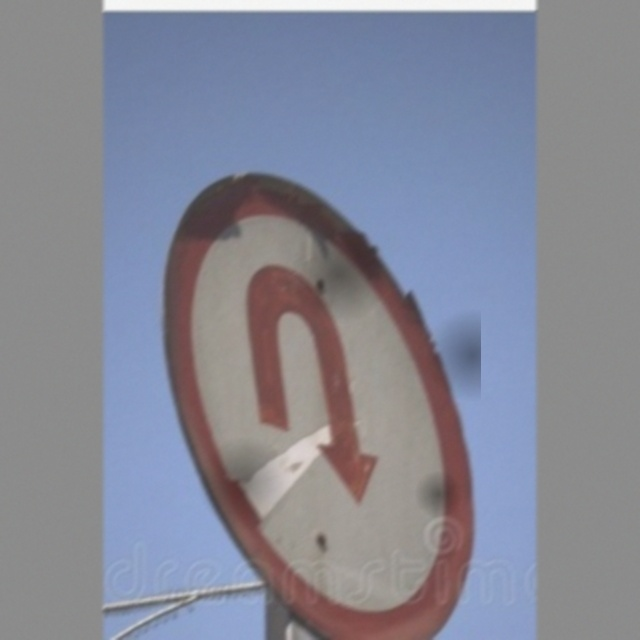U_Turn_Ahead: (170, 168, 481, 596)
